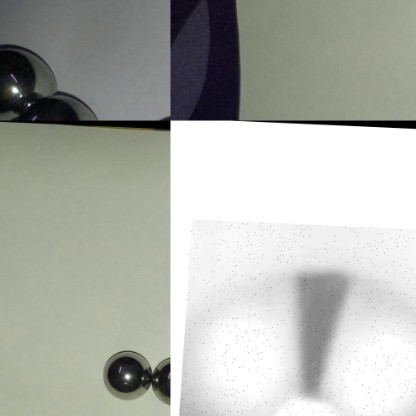ironball: (176, 218, 415, 415), (0, 45, 59, 119), (16, 90, 120, 120), (103, 346, 154, 402), (147, 351, 169, 405)
